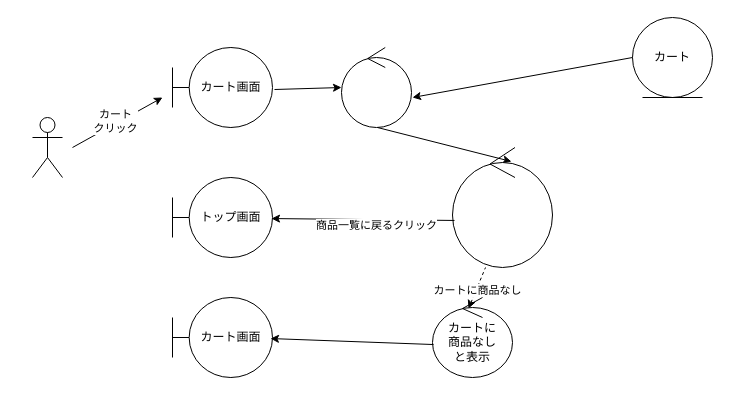
Some shapes in this 730 by 395 pixel diagram are drawn without their labels. Each missing label, with the centre of its shape:
カート 情報 取得: point 376,87
カート一覧表示: point 502,207
顧客ユーザ: point 47,147
